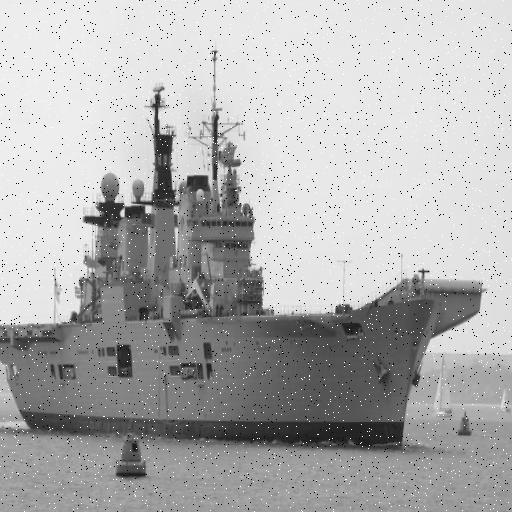Portanaves: (1, 40, 485, 465)
